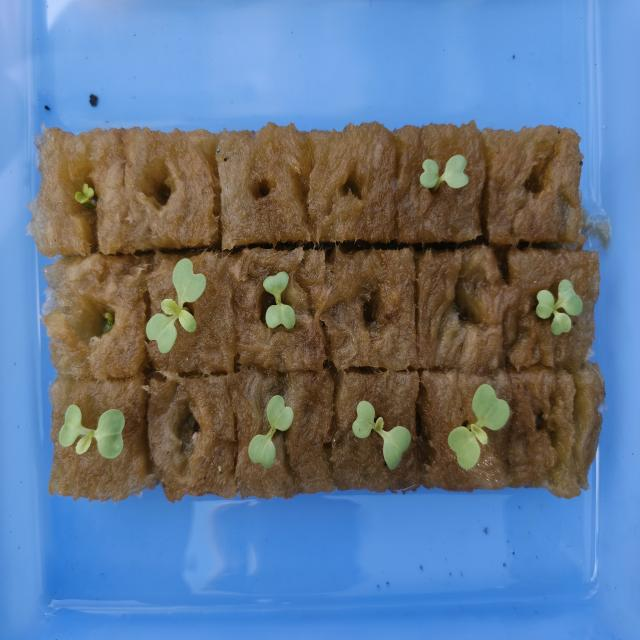daun-pakcoy: (472, 384, 510, 430), (172, 259, 206, 308), (95, 409, 125, 458), (448, 424, 480, 469), (381, 426, 411, 470), (58, 404, 88, 446), (265, 304, 296, 344), (146, 314, 177, 353), (248, 427, 275, 469), (267, 395, 293, 438), (555, 279, 582, 315), (440, 155, 469, 188), (352, 400, 375, 438), (263, 271, 289, 297), (535, 290, 555, 319), (420, 159, 438, 188), (551, 310, 571, 335), (76, 428, 94, 454), (468, 420, 487, 444), (178, 307, 196, 332), (161, 298, 180, 315), (80, 184, 95, 198), (75, 191, 88, 204)
